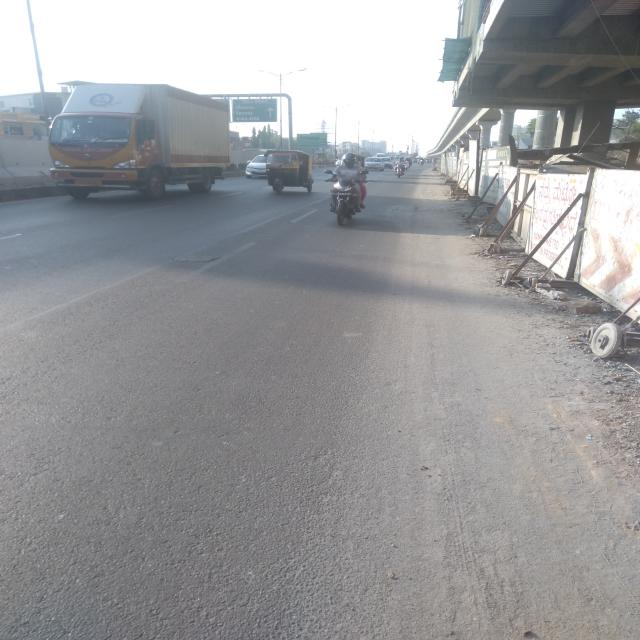Autorickshaw: (266, 149, 313, 193), (341, 155, 364, 174)
Bike: (330, 152, 369, 224), (395, 158, 405, 178), (404, 158, 412, 171), (420, 158, 424, 166), (432, 158, 436, 164), (417, 158, 421, 164), (427, 159, 431, 164), (412, 158, 415, 164)
Car: (244, 153, 279, 180), (364, 156, 384, 172), (380, 157, 394, 169), (336, 156, 341, 168), (388, 154, 392, 158)
Traveller: (394, 153, 402, 159)
Truck: (48, 75, 236, 204)
